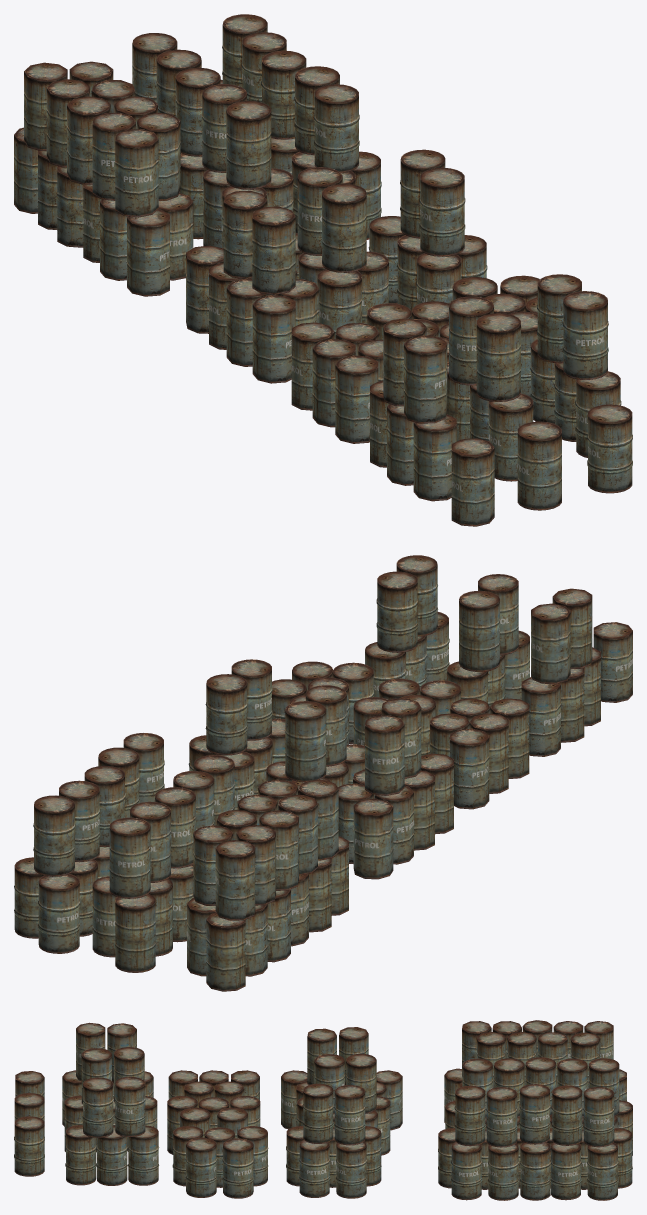
File: Barrel_v1.FBX
3 views of the same model, one above another, from view 1: azimuth 30°, elevation 25°; view 2: azimuth 150°, elevation 25°; view 3: azimuth 270°, elevation 25° (orthographic). The views are drawn at different scales.
Parts seen in each view (by area): view 1: Barrel_v1_LD1_S4, Barrel_v1_LD1_S3, Barrel_v1_LD2_S4, Barrel_v1_LD3_S4, Barrel_v1_LD1_S1, Barrel_v1_LD3_S3, Barrel_v1_LD3_S1, Barrel_v1_LD2_S1, Barrel_v1_LD2_S3, Barrel_v1_LD1_S2, Barrel_v1_LD3, Barrel_v1_LD2 (+3 smaller); view 2: Barrel_v1_LD1_S4, Barrel_v1_LD2_S4, Barrel_v1_LD3_S4, Barrel_v1_LD1_S3, Barrel_v1_LD1_S1, Barrel_v1_LD3_S1, Barrel_v1_LD3_S3, Barrel_v1_LD1_S2, Barrel_v1_LD2_S1, Barrel_v1_LD2_S3, Barrel_v1_LD3_S2, Barrel_v1_LD2_S2 (+1 smaller); view 3: Barrel_v1_LD3_S4, Barrel_v1_LD3_S3, Barrel_v1_LD3_S1, Barrel_v1_LD1_S4, Barrel_v1_LD3_S2, Barrel_v1_LD2_S4, Barrel_v1_LD1_S3, Barrel_v1_LD2_S3, Barrel_v1_LD2_S2, Barrel_v1_LD2_S1, Barrel_v1_LD1_S1, Barrel_v1_LD1_S2 (+3 smaller).
Boxes of the visible parts, bbox=[...] form: Barrel_v1_LD1_S4: bbox=[14, 61, 193, 296]; Barrel_v1_LD1_S3: bbox=[186, 190, 319, 383]; Barrel_v1_LD2_S4: bbox=[132, 33, 293, 248]; Barrel_v1_LD3_S4: bbox=[220, 14, 381, 239]; Barrel_v1_LD1_S1: bbox=[370, 318, 456, 501]; Barrel_v1_LD3_S3: bbox=[368, 149, 487, 318]; Barrel_v1_LD3_S1: bbox=[530, 274, 621, 457]; Barrel_v1_LD2_S1: bbox=[447, 296, 533, 481]; Barrel_v1_LD2_S3: bbox=[295, 167, 388, 339]; Barrel_v1_LD1_S2: bbox=[291, 322, 383, 443]; Barrel_v1_LD3: bbox=[587, 404, 632, 493]; Barrel_v1_LD2: bbox=[517, 421, 561, 510]; Barrel_v1_LD1_S4: bbox=[187, 779, 348, 991]; Barrel_v1_LD2_S4: bbox=[92, 755, 234, 972]; Barrel_v1_LD3_S4: bbox=[14, 733, 164, 953]; Barrel_v1_LD1_S3: bbox=[338, 698, 453, 879]; Barrel_v1_LD1_S1: bbox=[521, 588, 600, 756]; Barrel_v1_LD3_S1: bbox=[365, 555, 449, 697]; Barrel_v1_LD3_S3: bbox=[188, 659, 285, 810]; Barrel_v1_LD1_S2: bbox=[430, 698, 529, 809]; Barrel_v1_LD2_S1: bbox=[447, 574, 529, 706]; Barrel_v1_LD2_S3: bbox=[266, 685, 364, 794]; Barrel_v1_LD3_S2: bbox=[272, 661, 374, 744]; Barrel_v1_LD2_S2: bbox=[353, 678, 460, 755]; Barrel_v1_LD3_S4: bbox=[438, 1084, 632, 1200]; Barrel_v1_LD3_S3: bbox=[286, 1083, 381, 1198]; Barrel_v1_LD3_S1: bbox=[65, 1076, 159, 1185]; Barrel_v1_LD1_S4: bbox=[444, 1020, 626, 1122]; Barrel_v1_LD3_S2: bbox=[172, 1126, 268, 1198]; Barrel_v1_LD2_S4: bbox=[445, 1057, 632, 1155]; Barrel_v1_LD1_S3: bbox=[281, 1027, 402, 1130]; Barrel_v1_LD2_S3: bbox=[297, 1053, 390, 1155]; Barrel_v1_LD2_S2: bbox=[167, 1095, 260, 1154]; Barrel_v1_LD2_S1: bbox=[64, 1047, 157, 1152]; Barrel_v1_LD1_S1: bbox=[62, 1022, 153, 1126]; Barrel_v1_LD1_S2: bbox=[168, 1070, 259, 1107].
Bounding box in the file's own units: 4 × 2.06 × 12.14.
